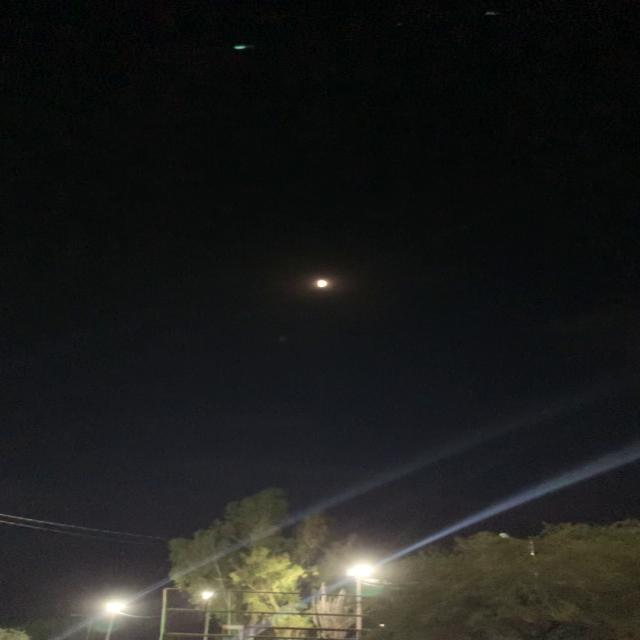moon: (300, 266, 347, 296)
